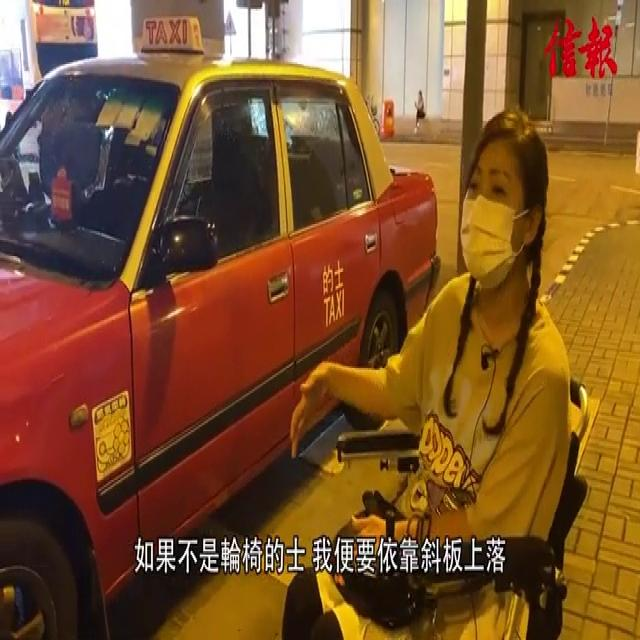wheelchairs: (333, 370, 594, 640)
